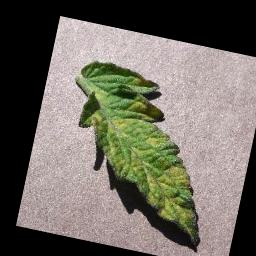Leaf_Mold: (48, 58, 231, 244)
